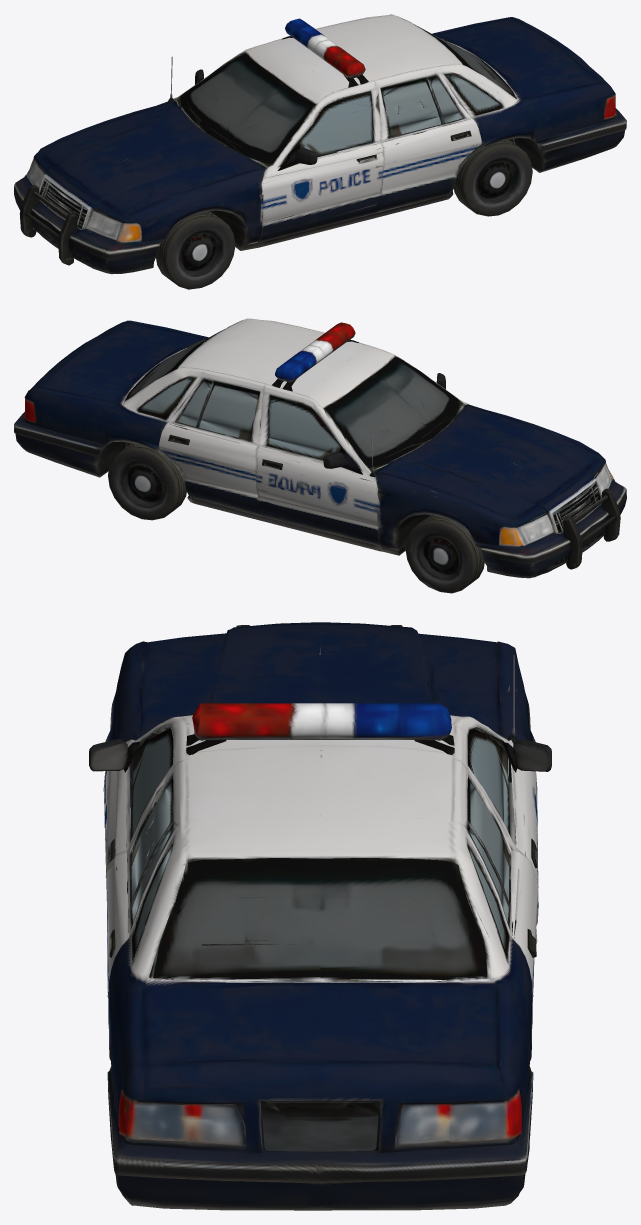
The model's file is police-meshy.glb.
3 renders of one model, top to bottom at view 1: azimuth 30°, elevation 25°; view 2: azimuth 150°, elevation 25°; view 3: azimuth 270°, elevation 25°, orthographic. The views are drawn at different scales.
Parts seen in each view (by area): view 1: geometry_0; view 2: geometry_0; view 3: geometry_0.
Boxes of the visible parts, x1,y1,x2,y2 form: geometry_0: [14, 14, 626, 289]; geometry_0: [14, 318, 626, 593]; geometry_0: [89, 622, 551, 1210].
Size of the model in its own units: 0.9526 by 0.2788 by 0.3501.
1 material, 1 textured.
